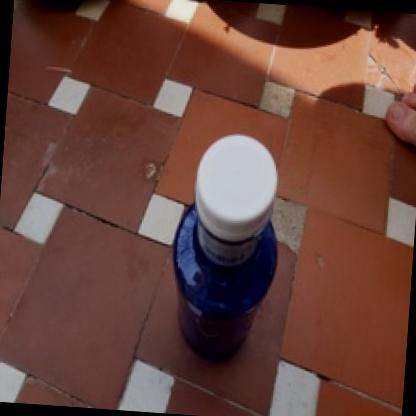plastic_bottles: (156, 125, 289, 369)
